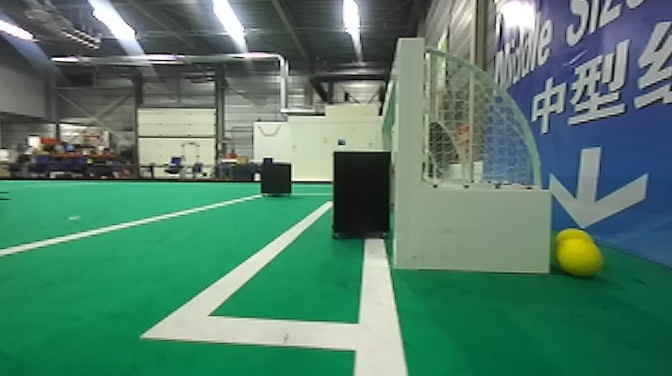ball: (547, 221, 604, 270)
goalpost: (392, 37, 429, 277)
